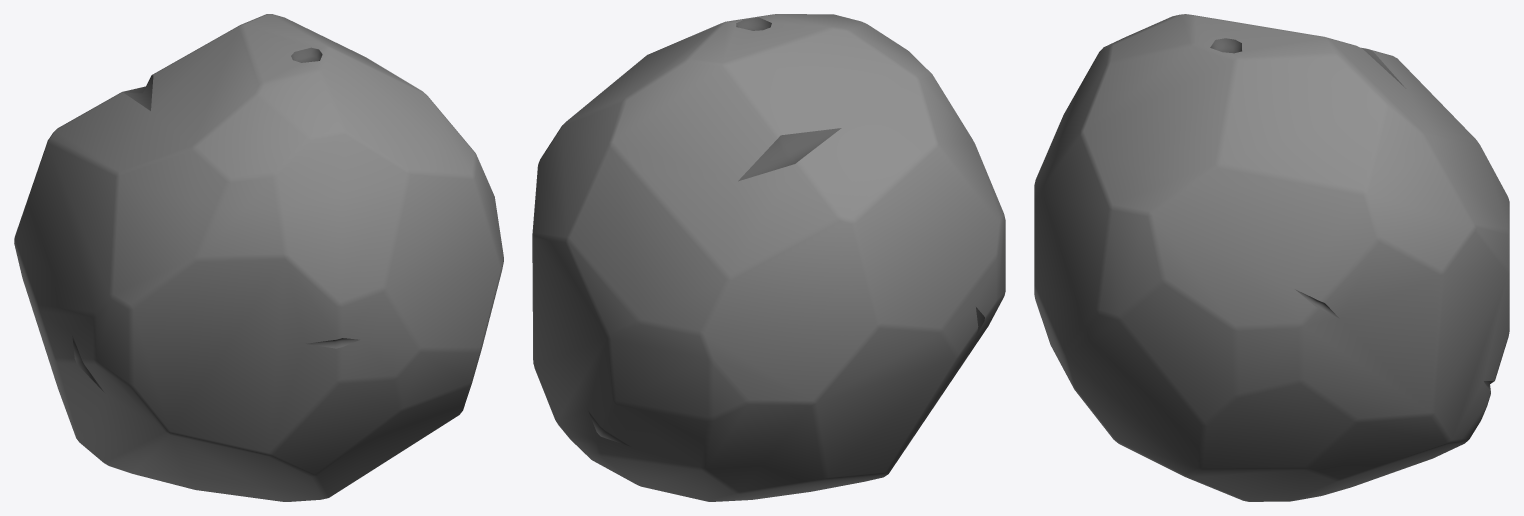
The model's file is Rock07.fbx.
3 views of the same model, side by side, from view 1: azimuth 30°, elevation 25°; view 2: azimuth 150°, elevation 25°; view 3: azimuth 270°, elevation 25° (orthographic). The views are drawn at different scales.
Visible parts, largest first — view 1: LOD0; view 2: LOD0; view 3: LOD0.
Part boxes in pixels (box(x1,y1,x2,y2)): LOD0: box(14, 14, 503, 501); LOD0: box(532, 14, 1005, 501); LOD0: box(1034, 14, 1509, 501).
Size of what is drawn, in the model's own units: 497 by 497 by 497.
